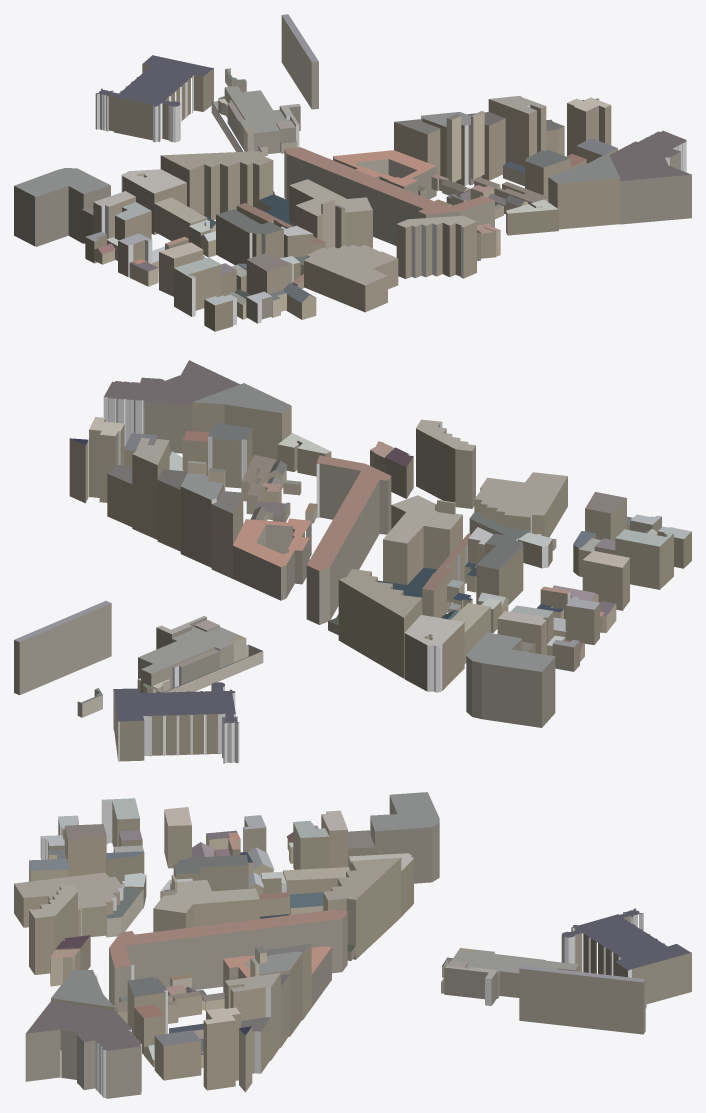
3 views of the same model, one above another, from view 1: azimuth 30°, elevation 25°; view 2: azimuth 150°, elevation 25°; view 3: azimuth 270°, elevation 25° (orthographic). The views are drawn at different scales.
Visible parts, largest first — view 1: tuile; view 2: tuile; view 3: tuile.
Part boxes in pixels (<box>): tuile: <box>14,14,691,331</box>; tuile: <box>14,360,691,763</box>; tuile: <box>14,792,691,1098</box>.
Bounding box in the file's own units: 274 × 45.12 × 276.
